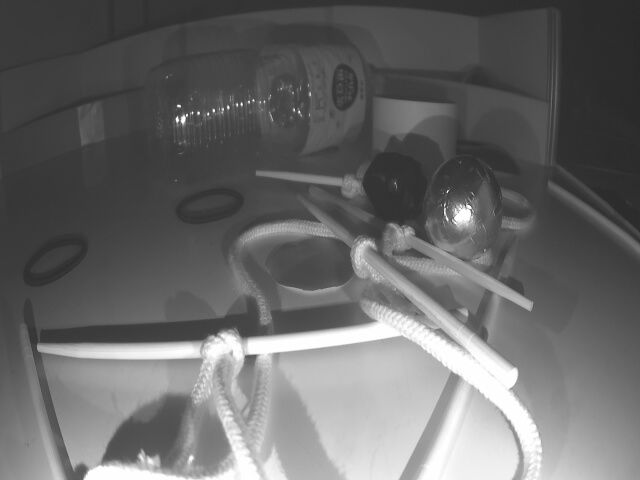Dead: (361, 149, 430, 222)
Live: (424, 155, 501, 263)
Point: (369, 70, 545, 170), (3, 90, 155, 179)
